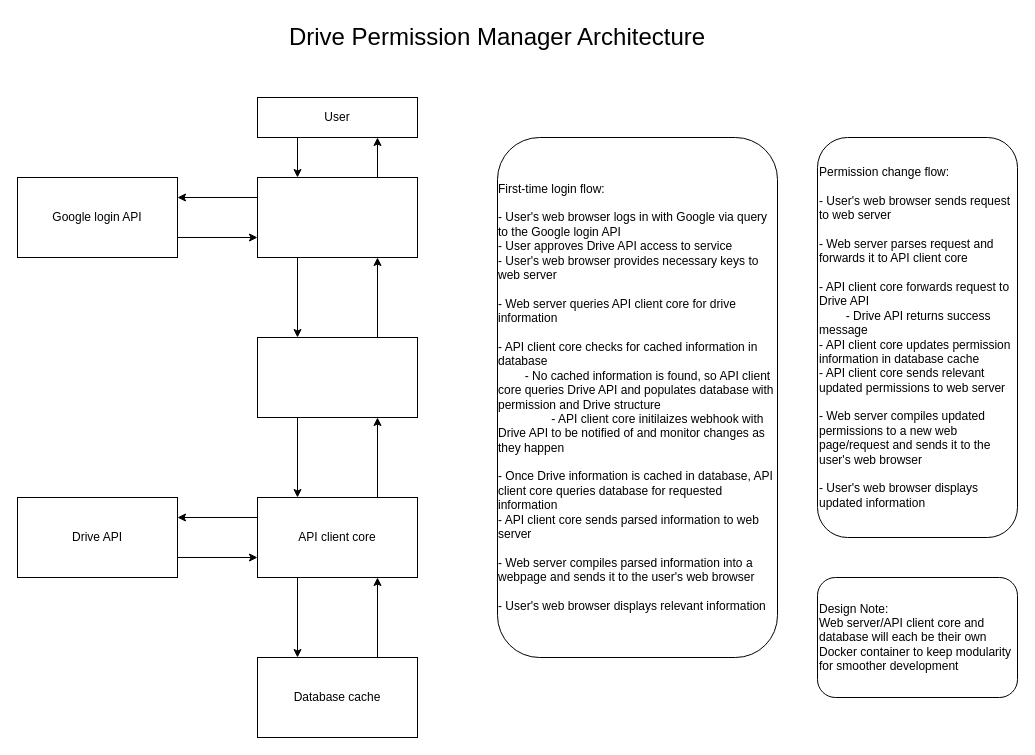
The diagram is 1035 pixels wide and 755 high, and some of its shapes have lost their labels. Here are the shapes that lost their labels. From the top down, the centre of each, then its label:
At point 337,217: "User's web browser".
At point 337,377: "Web server".
